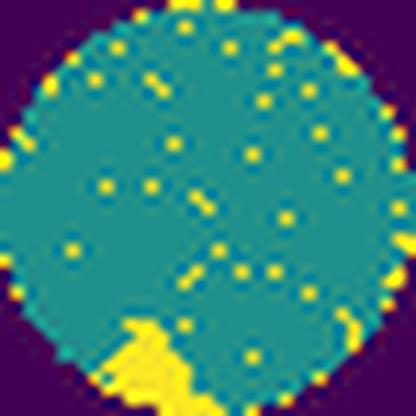Edge-Loc: (87, 316, 228, 416)
